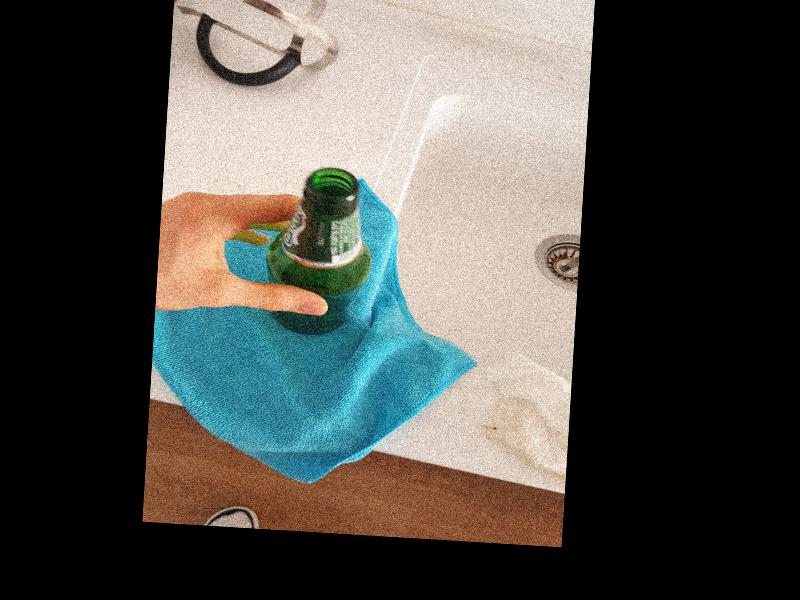Beer: (270, 167, 374, 339)
